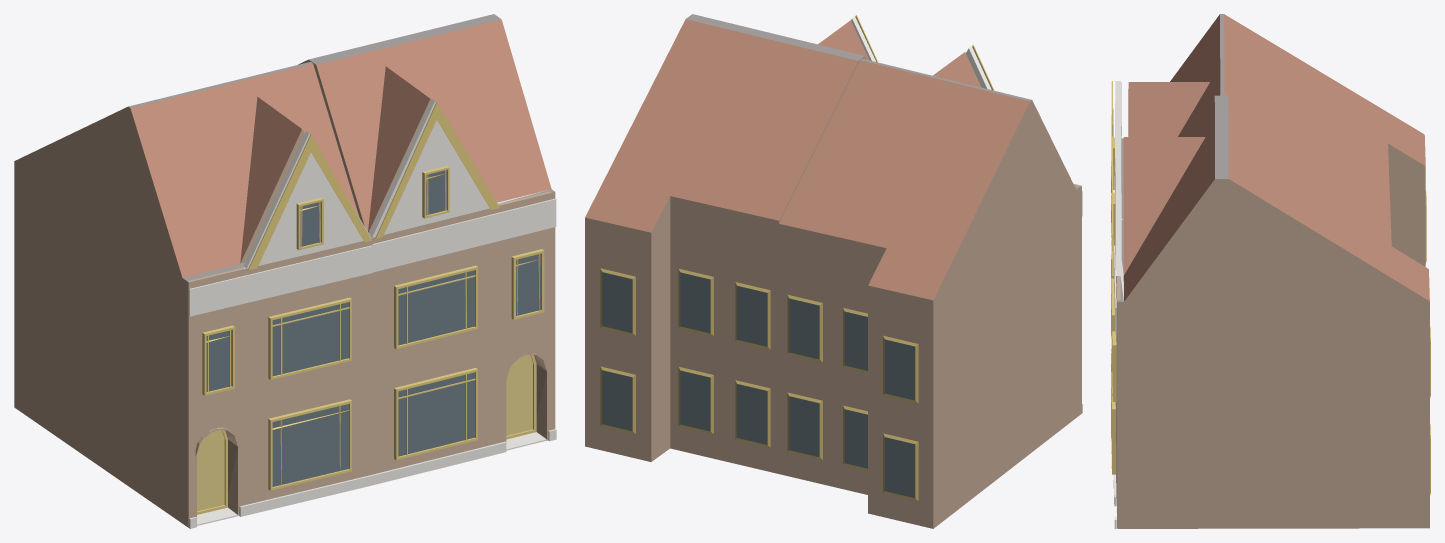
Rendered from chunk-face-zaanhof-52-55.lod2.glb.
3 views of the same model, side by side, from view 1: azimuth 30°, elevation 25°; view 2: azimuth 150°, elevation 25°; view 3: azimuth 270°, elevation 25° (orthographic). The views are drawn at different scales.
Parts seen in each view (by area): view 1: lod2; view 2: lod2; view 3: lod2.
Boxes of the visible parts, <box> form: lod2: <box>14,14,556,528</box>; lod2: <box>585,14,1082,528</box>; lod2: <box>1111,14,1430,528</box>.
Bounding box in the file's own units: 12.1 × 11.76 × 9.74.
